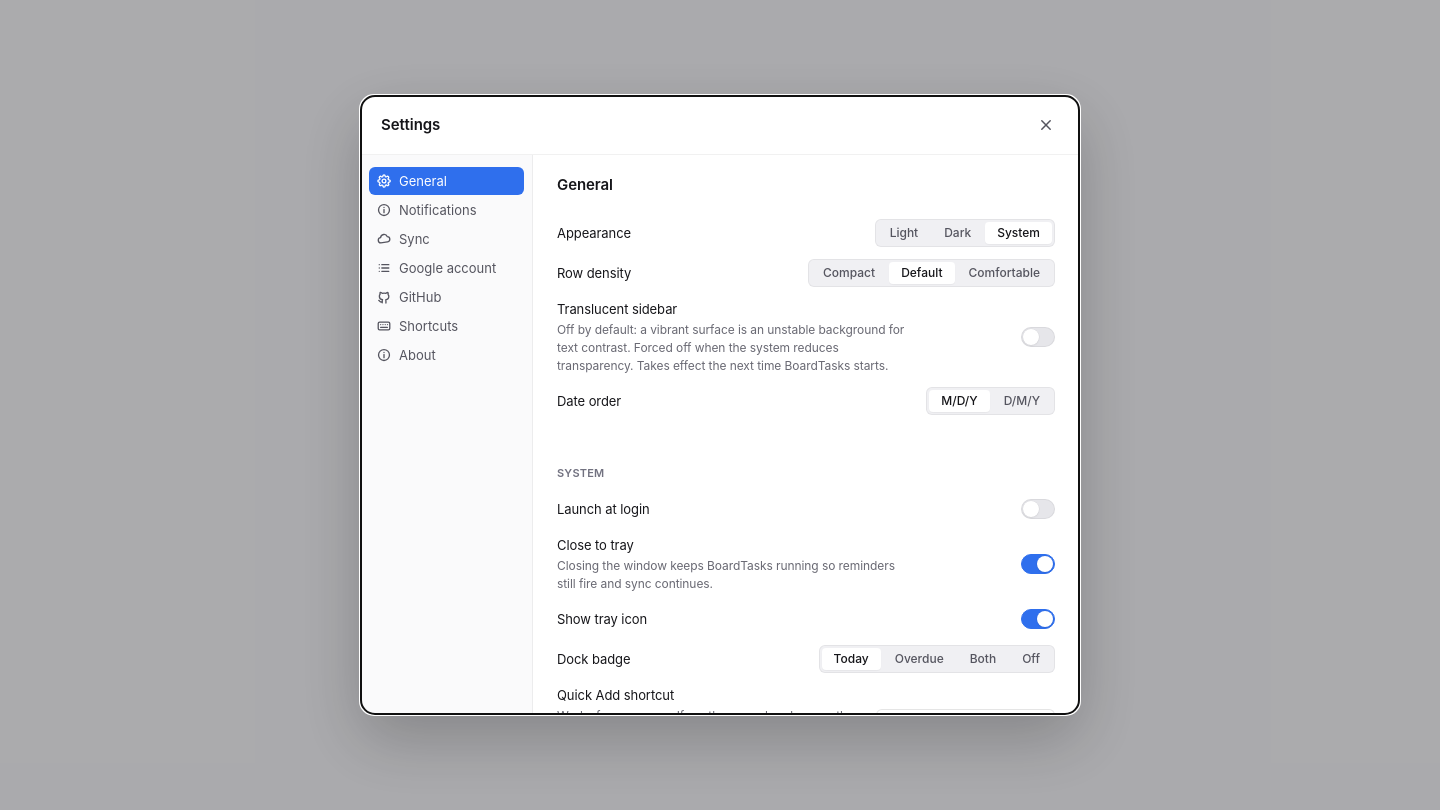
Test: SettingsPanel › shows the app version and log path in About
The image size is (1440, 810).
What coordinates should you click on to do the following:
click the tab "About"
I would click on:
 (446, 355)
Its box is [369,341,524,369].
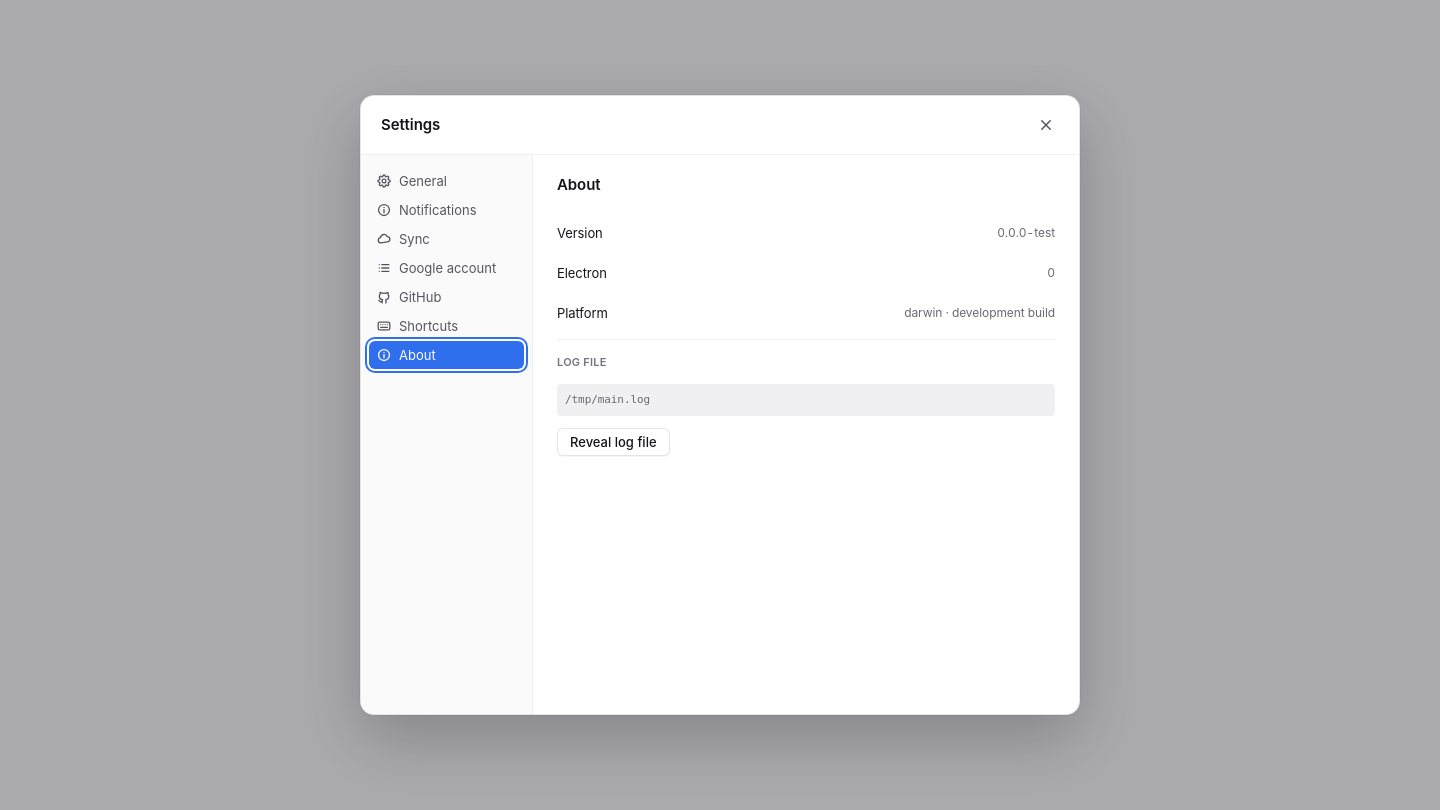
Expected: the text "0.0.0-test" is shown, [997,223,1055,243]
Expected: the text "/tmp/main.log" is shown, [557,384,1055,416]
